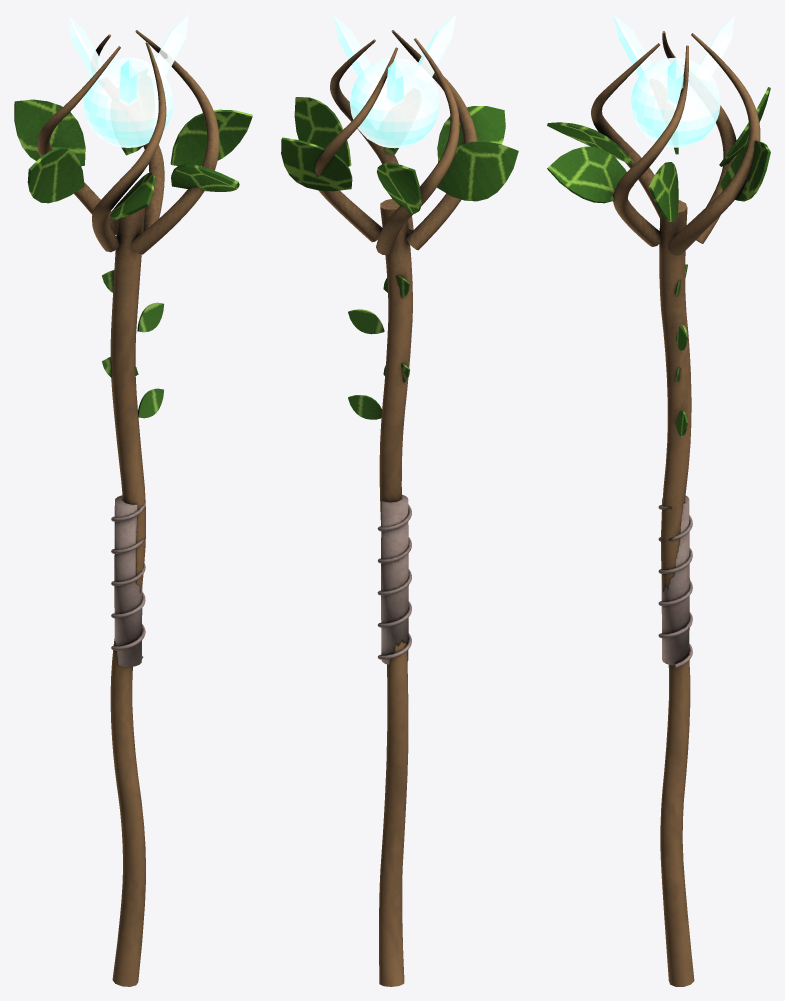
File: arma_lend_foco_natural_gelo.glb
3 renders of one model, left to right at view 1: azimuth 30°, elevation 25°; view 2: azimuth 150°, elevation 25°; view 3: azimuth 270°, elevation 25°, orthographic.
Visible parts, largest first — view 1: arma_lend_foco_natural_gelo, Sphere, brot0, brot1, brot2; view 2: arma_lend_foco_natural_gelo, Sphere, brot2, brot0, brot1; view 3: arma_lend_foco_natural_gelo, Sphere, brot2, brot1, brot0.
Part boxes in pixels (box(x1,y1,x2,y2)): arma_lend_foco_natural_gelo: box(14, 30, 252, 986); Sphere: box(83, 57, 173, 147); brot0: box(147, 14, 188, 82); brot1: box(69, 16, 108, 81); brot2: box(119, 59, 137, 105); arma_lend_foco_natural_gelo: box(281, 30, 518, 986); Sphere: box(349, 58, 439, 148); brot2: box(413, 14, 456, 82); brot0: box(334, 15, 375, 82); brot1: box(386, 59, 403, 105); arma_lend_foco_natural_gelo: box(547, 31, 770, 986); Sphere: box(630, 57, 720, 147); brot2: box(613, 14, 656, 81); brot1: box(695, 16, 734, 81); brot0: box(667, 59, 683, 105).
Size of the model in its own units: 0.4367 by 1.78 by 0.3793.
Materials: 5 (1 with a texture image).
